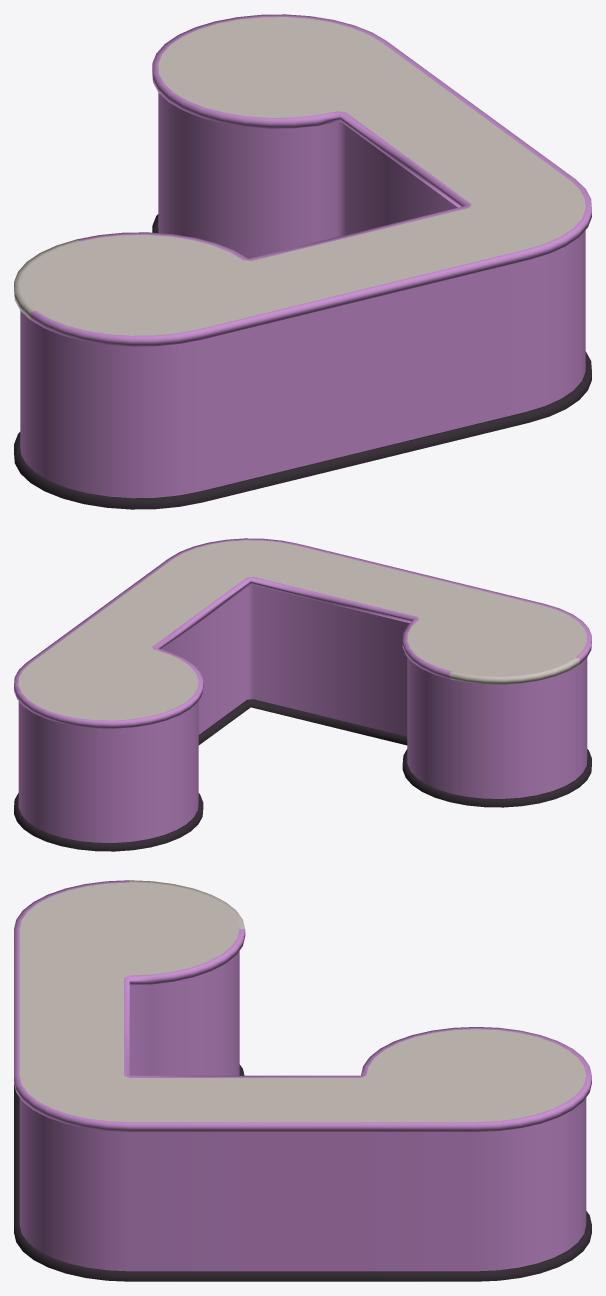
File: GB_counter_shop_bazoo.glb
The picture shows the model from 3 angles, top to bottom: view 1: azimuth 30°, elevation 25°; view 2: azimuth 150°, elevation 25°; view 3: azimuth 270°, elevation 25°; orthographic projection. The views are drawn at different scales.
Parts seen in each view (by area): view 1: counter_shop_bazoo; view 2: counter_shop_bazoo; view 3: counter_shop_bazoo.
Part boxes in pixels (box(x1,y1,x2,y2)): counter_shop_bazoo: box(14, 14, 591, 509); counter_shop_bazoo: box(14, 538, 591, 851); counter_shop_bazoo: box(14, 880, 591, 1281).
Bounding box in the file's own units: 3.75 × 1.12 × 3.75.
